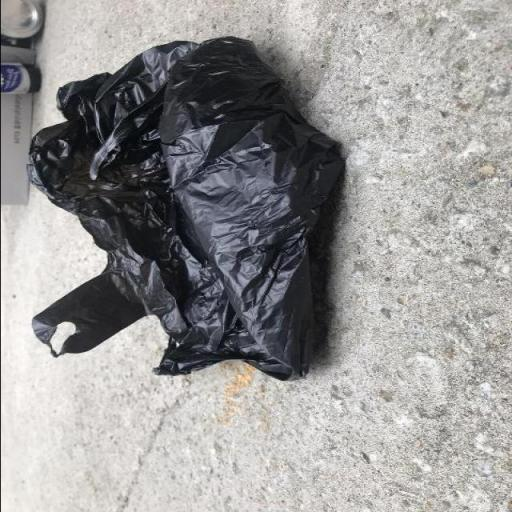plastic-bag: (22, 35, 344, 389)
